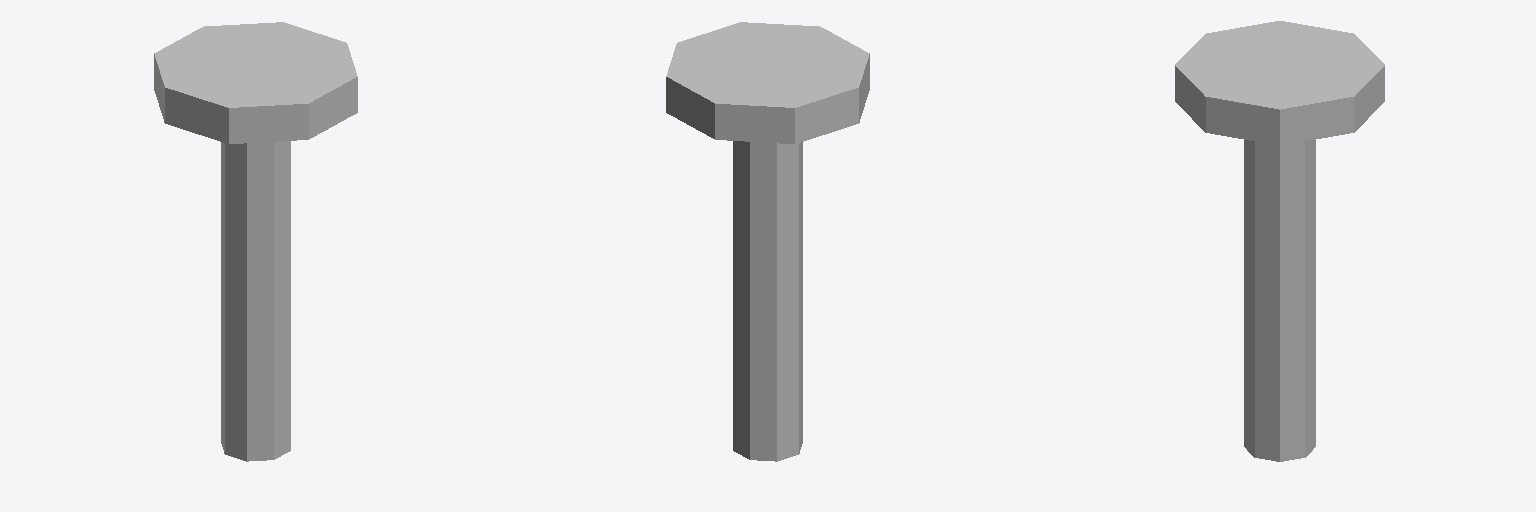
The model's file is sword0.obj.
3 views of the same model, side by side, from view 1: azimuth 30°, elevation 25°; view 2: azimuth 150°, elevation 25°; view 3: azimuth 270°, elevation 25° (orthographic).
Visible parts, largest first — view 1: Cylinder; view 2: Cylinder; view 3: Cylinder.
Part boxes in pixels (bbox=[...]): Cylinder: bbox=[154, 22, 357, 461]; Cylinder: bbox=[666, 22, 869, 461]; Cylinder: bbox=[1175, 21, 1384, 461].
Size of the model in its own units: 1 by 2 by 1.